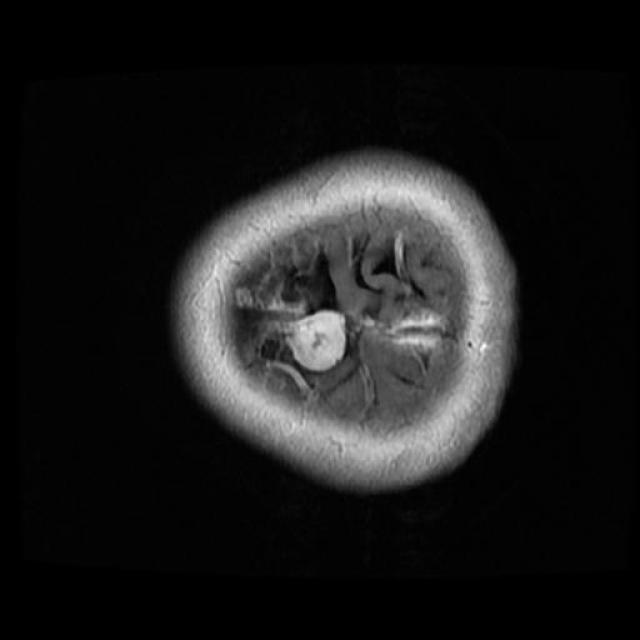Meningioma: (286, 310, 346, 372)
